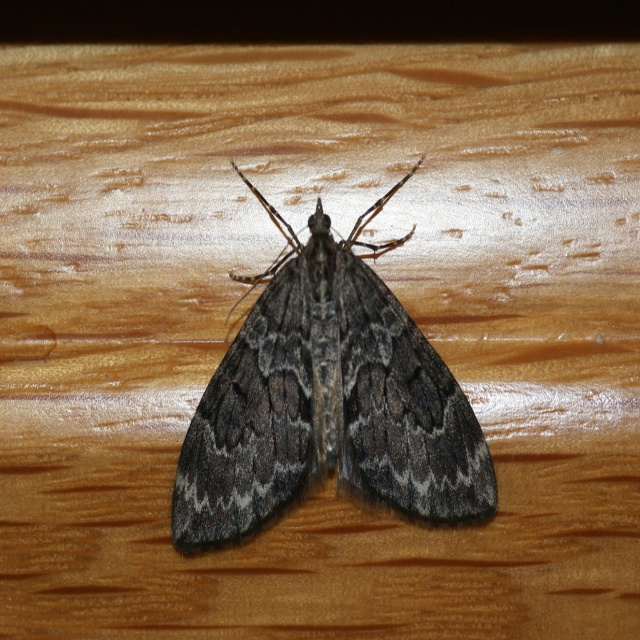Butterfly: (167, 145, 408, 578)
